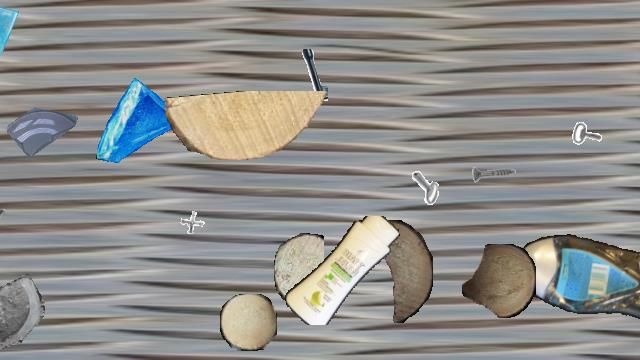glass: (94, 77, 188, 171), (7, 91, 79, 163), (0, 271, 44, 359), (0, 1, 24, 59)
metal: (270, 49, 328, 107), (411, 152, 465, 206), (470, 152, 516, 198), (174, 203, 214, 243), (572, 108, 612, 148), (0, 201, 10, 243)
plastic: (282, 216, 404, 324), (517, 233, 640, 329)
wood: (165, 91, 331, 159), (361, 220, 433, 322), (462, 244, 536, 318), (274, 233, 324, 305), (220, 294, 276, 350)
